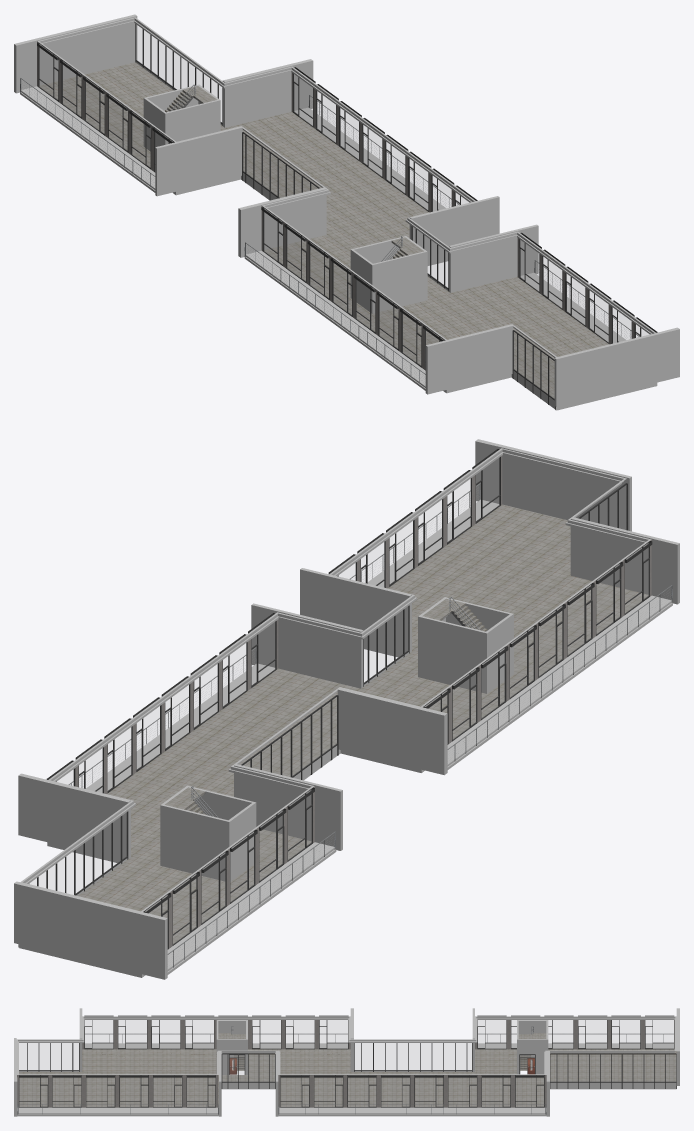
The model's file is sm_government_building_4f.FBX.
3 renders of one model, top to bottom at view 1: azimuth 30°, elevation 25°; view 2: azimuth 150°, elevation 25°; view 3: azimuth 270°, elevation 25°, orthographic. The views are drawn at different scales.
Parts seen in each view (by area): view 1: sm_government_building_4f; view 2: sm_government_building_4f; view 3: sm_government_building_4f.
Part boxes in pixels (x1=…): sm_government_building_4f: x1=14, y1=14, x2=679, y2=410; sm_government_building_4f: x1=14, y1=439, x2=679, y2=979; sm_government_building_4f: x1=14, y1=1008, x2=679, y2=1116.
Bounding box in the file's own units: 1992 × 613 × 7638.
